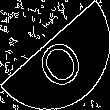O_NW: (25, 22, 85, 88)
